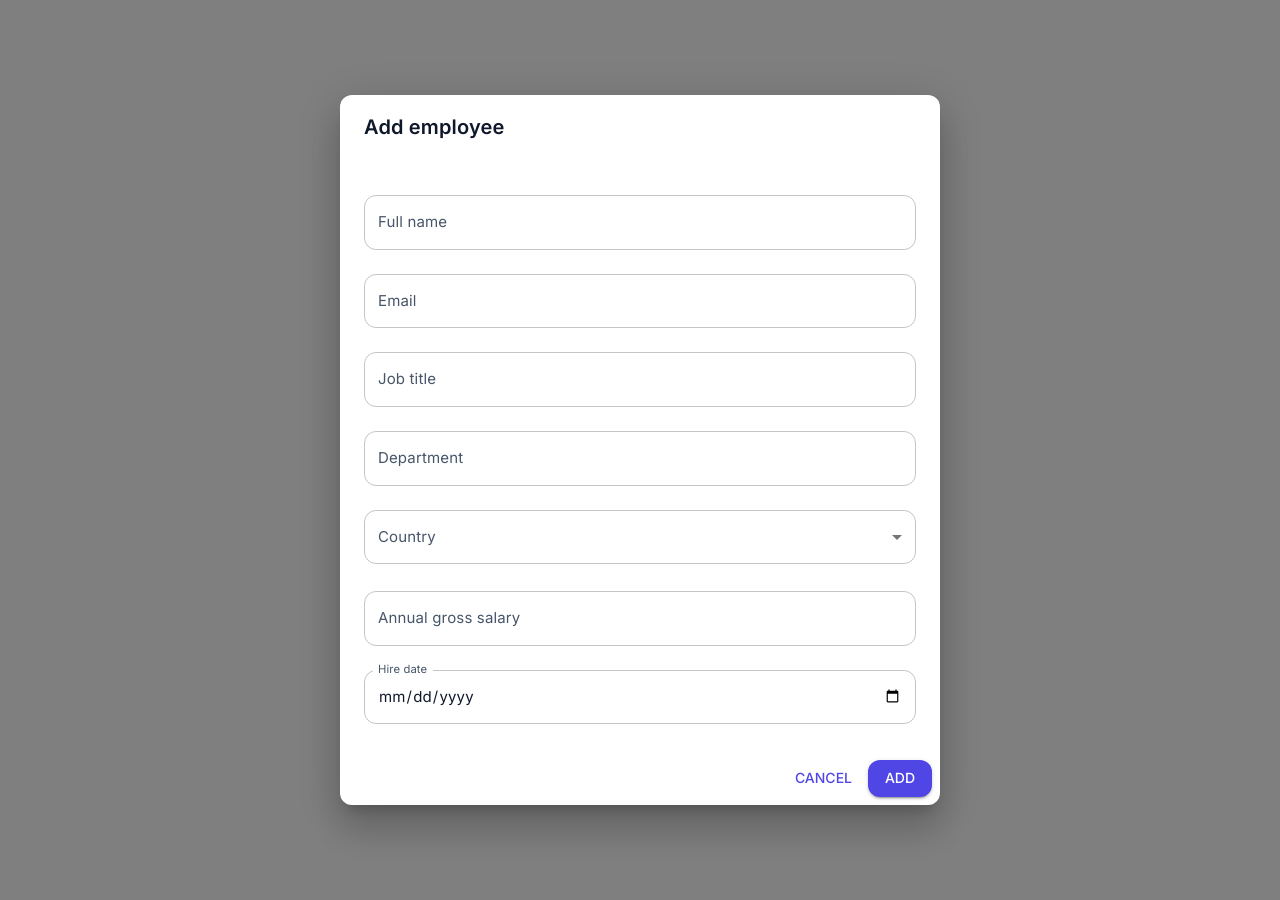
EmployeeFormDialog: add mode › shows an error for a salary that is not a plain decimal number
This screenshot has width=1280, height=900.
Step 1. Type "not-a-number" into the field labelled "Annual gross salary" → (640, 618), box [364, 591, 916, 646]
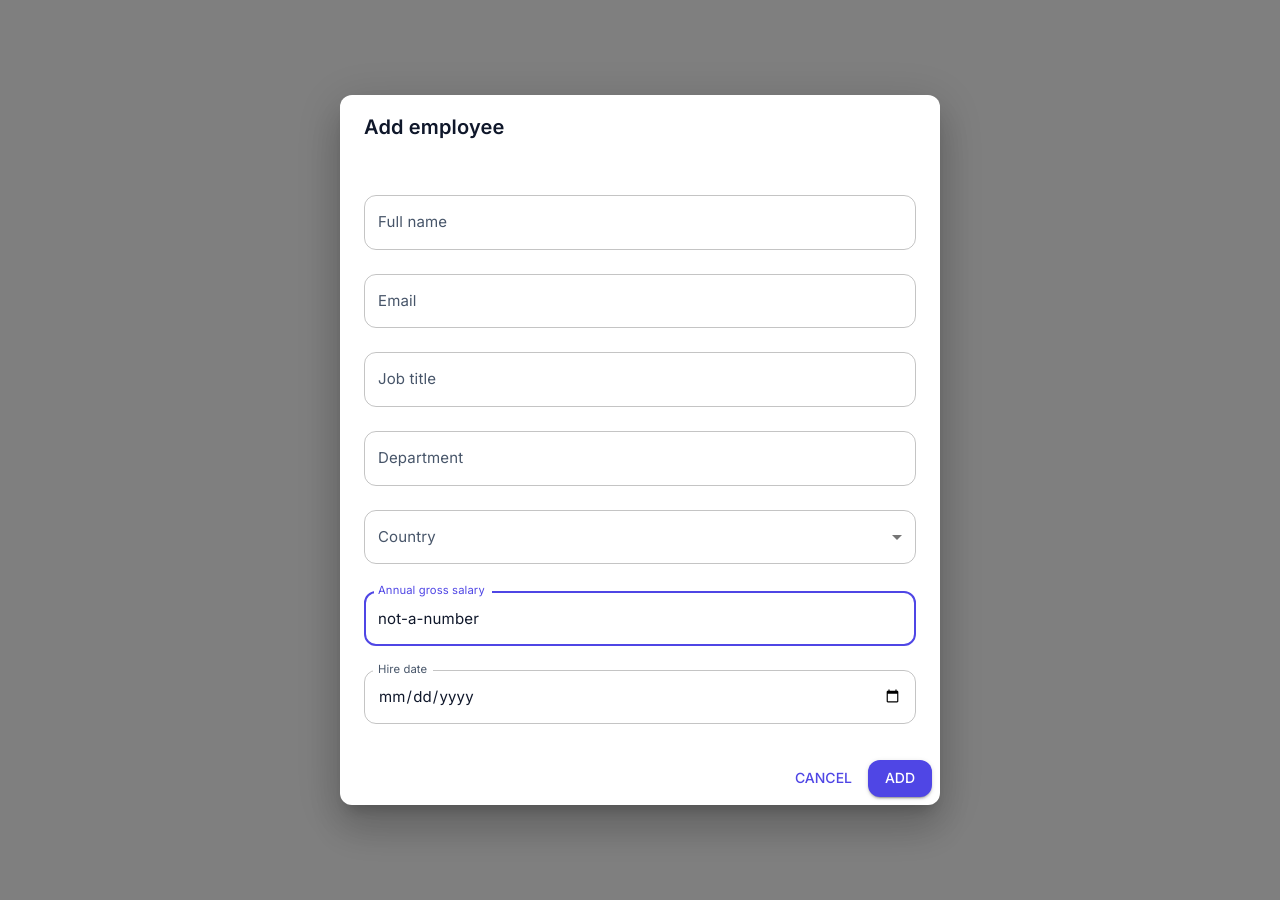
Step 2. Click the button "Add" → (900, 778), box [868, 760, 932, 797]
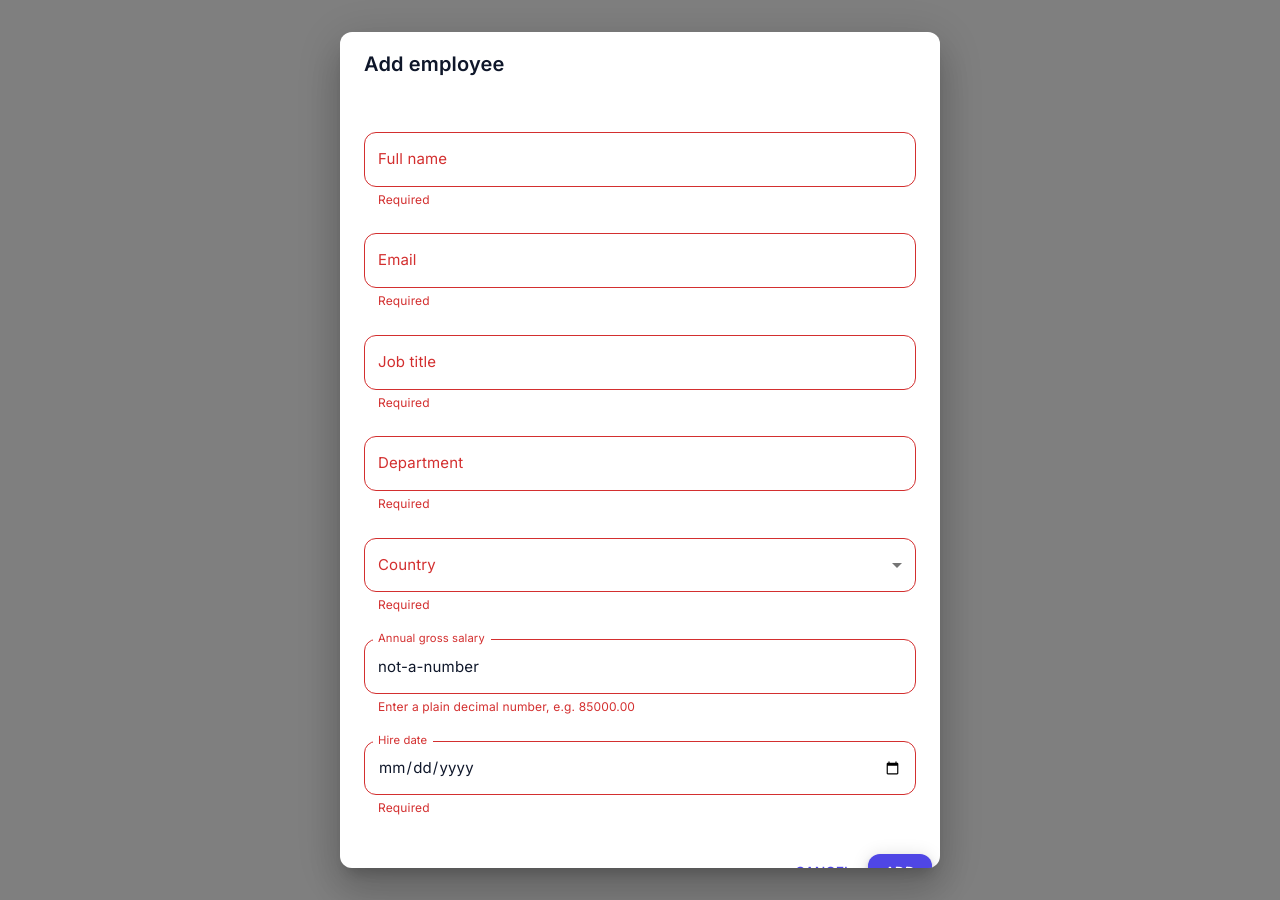
expect the text "Enter a plain decimal number, e.g. 85000.00" is shown: met, box [378, 699, 635, 714]
